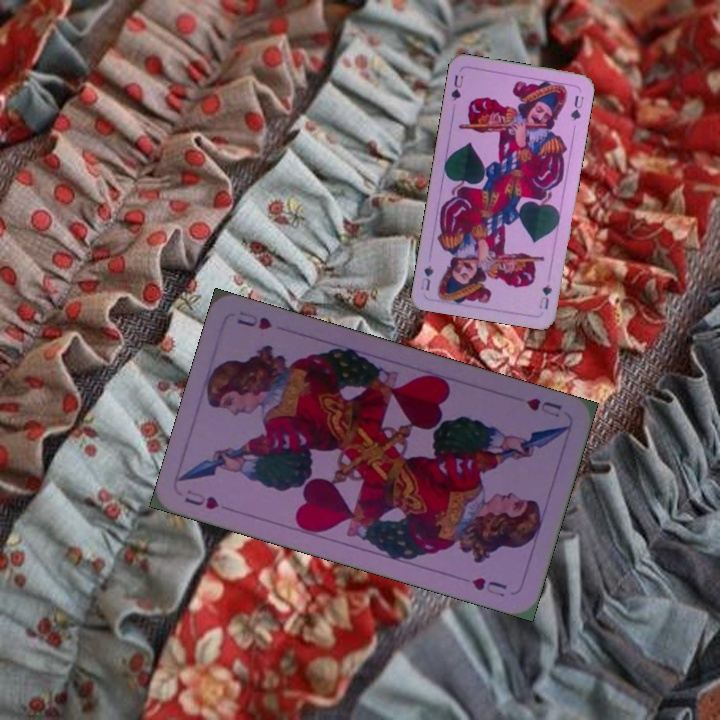GU: (535, 280, 555, 312), (447, 71, 466, 104)
HU: (522, 393, 565, 420), (180, 485, 222, 512)
